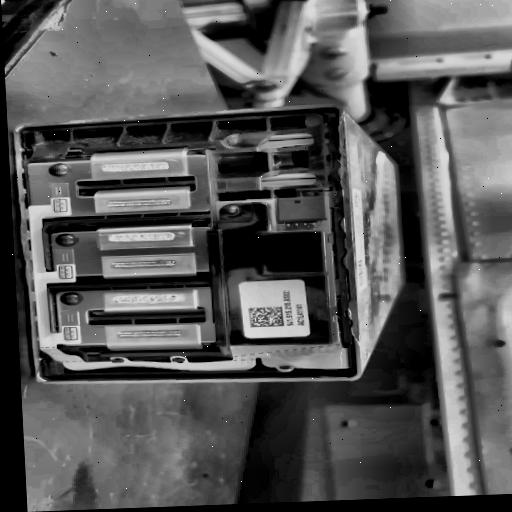battery_module: (14, 107, 408, 384)
